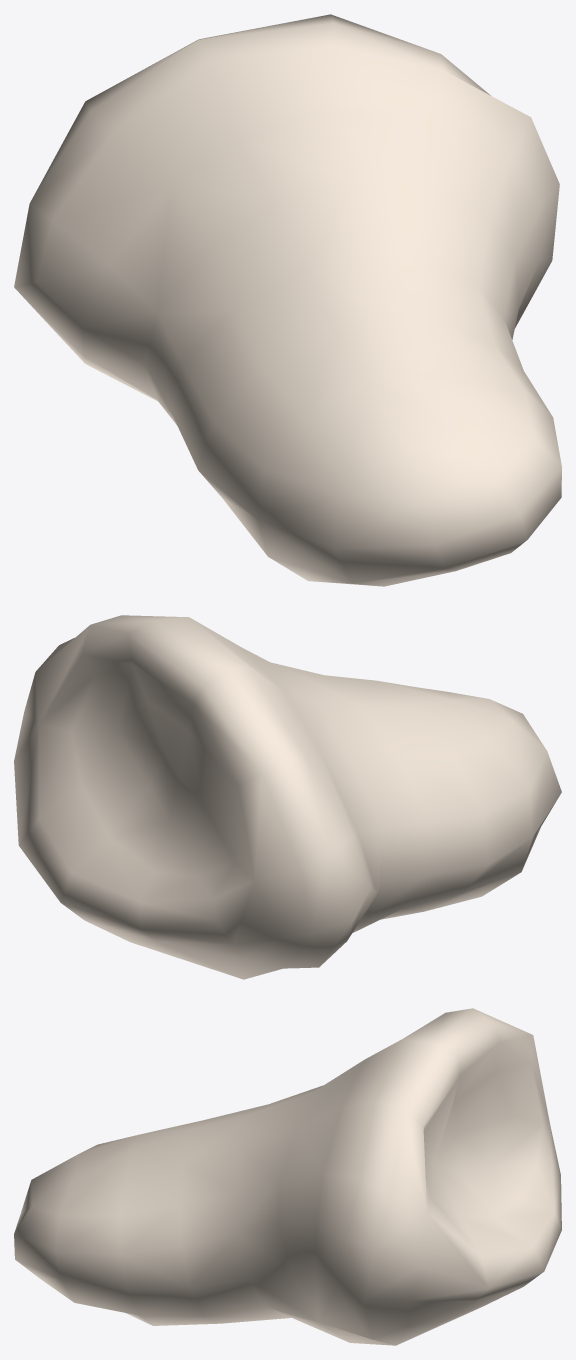
The model's file is right_toe_4_distal.glb.
3 renders of one model, top to bottom at view 1: azimuth 30°, elevation 25°; view 2: azimuth 150°, elevation 25°; view 3: azimuth 270°, elevation 25°, orthographic. The views are drawn at different scales.
Parts seen in each view (by area): view 1: Distal phalanx of fourth finger of foot.r; view 2: Distal phalanx of fourth finger of foot.r; view 3: Distal phalanx of fourth finger of foot.r.
Part boxes in pixels (left/top/right/bottom): Distal phalanx of fourth finger of foot.r: left=14, top=14, right=561, bottom=586; Distal phalanx of fourth finger of foot.r: left=14, top=615, right=561, bottom=979; Distal phalanx of fourth finger of foot.r: left=14, top=1008, right=561, bottom=1345.
Bounding box in the file's own units: 0.00863 × 0.00715 × 0.0114.
